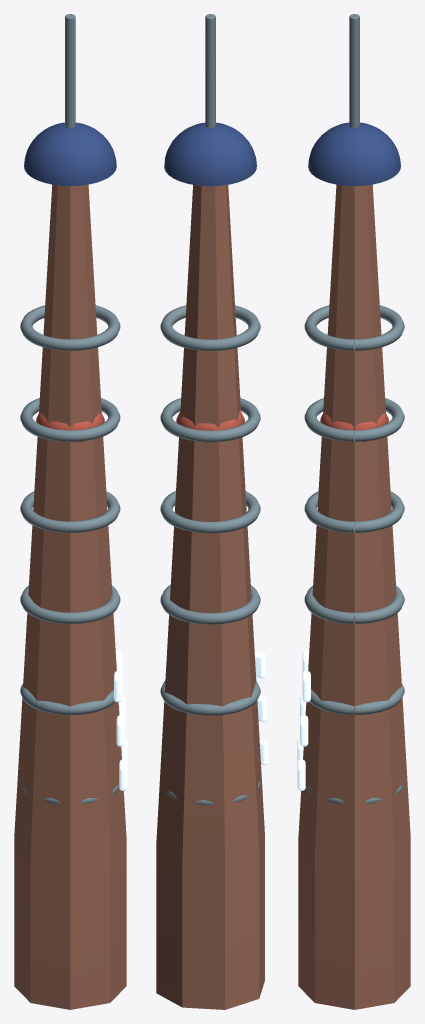
3 views of the same model, side by side, from view 1: azimuth 90°, elevation 25°; view 2: azimuth 150°, elevation 25°; view 3: azimuth 270°, elevation 25° (orthographic).
Visible parts, largest first — view 1: Tapered spire, Sensor pickup cap, Sensor mast collar.007, Sensor mast collar.006, Sensor mast collar.005, Sensor mast collar.004, Aerial stem, Sensor mast collar.003, Spire collar, Inset service window.002; view 2: Tapered spire, Sensor pickup cap, Sensor mast collar.007, Sensor mast collar.006, Sensor mast collar.005, Sensor mast collar.004, Aerial stem, Sensor mast collar.003, Spire collar, Inset service window.004; view 3: Tapered spire, Sensor pickup cap, Sensor mast collar.007, Sensor mast collar.006, Sensor mast collar.005, Sensor mast collar.004, Aerial stem, Sensor mast collar.003, Spire collar, Inset service window.003.
Part boxes in pixels (<box>): Tapered spire: <box>14,184,126,1009</box>; Sensor pickup cap: <box>24,122,116,186</box>; Sensor mast collar.007: <box>20,305,120,350</box>; Sensor mast collar.006: <box>20,398,120,441</box>; Sensor mast collar.005: <box>20,491,120,532</box>; Sensor mast collar.004: <box>20,585,120,623</box>; Aerial stem: <box>65,14,75,128</box>; Sensor mast collar.003: <box>20,683,115,715</box>; Spire collar: <box>36,413,104,441</box>; Inset service window.002: <box>116,715,125,746</box>; Tapered spire: <box>156,185,264,1009</box>; Sensor pickup cap: <box>164,122,256,186</box>; Sensor mast collar.007: <box>160,305,260,350</box>; Sensor mast collar.006: <box>160,398,260,442</box>; Sensor mast collar.005: <box>160,491,260,533</box>; Sensor mast collar.004: <box>160,585,260,624</box>; Aerial stem: <box>205,14,215,128</box>; Sensor mast collar.003: <box>160,681,260,715</box>; Spire collar: <box>176,410,244,442</box>; Inset service window.004: <box>254,651,266,678</box>; Tapered spire: <box>298,184,410,1009</box>; Sensor pickup cap: <box>308,122,400,186</box>; Sensor mast collar.007: <box>304,305,404,350</box>; Sensor mast collar.006: <box>304,398,404,441</box>; Sensor mast collar.005: <box>304,491,404,532</box>; Sensor mast collar.004: <box>304,585,404,623</box>; Aerial stem: <box>349,14,359,128</box>; Sensor mast collar.003: <box>309,683,404,715</box>; Spire collar: <box>320,413,388,441</box>; Inset service window.003: <box>299,715,308,746</box>.
Size of the model in its own units: 0.46 by 4.38 by 0.4649.
